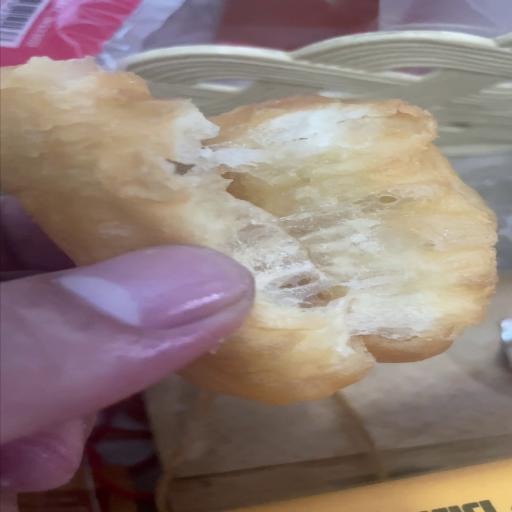street_golden_defect: (0, 82, 496, 404)
